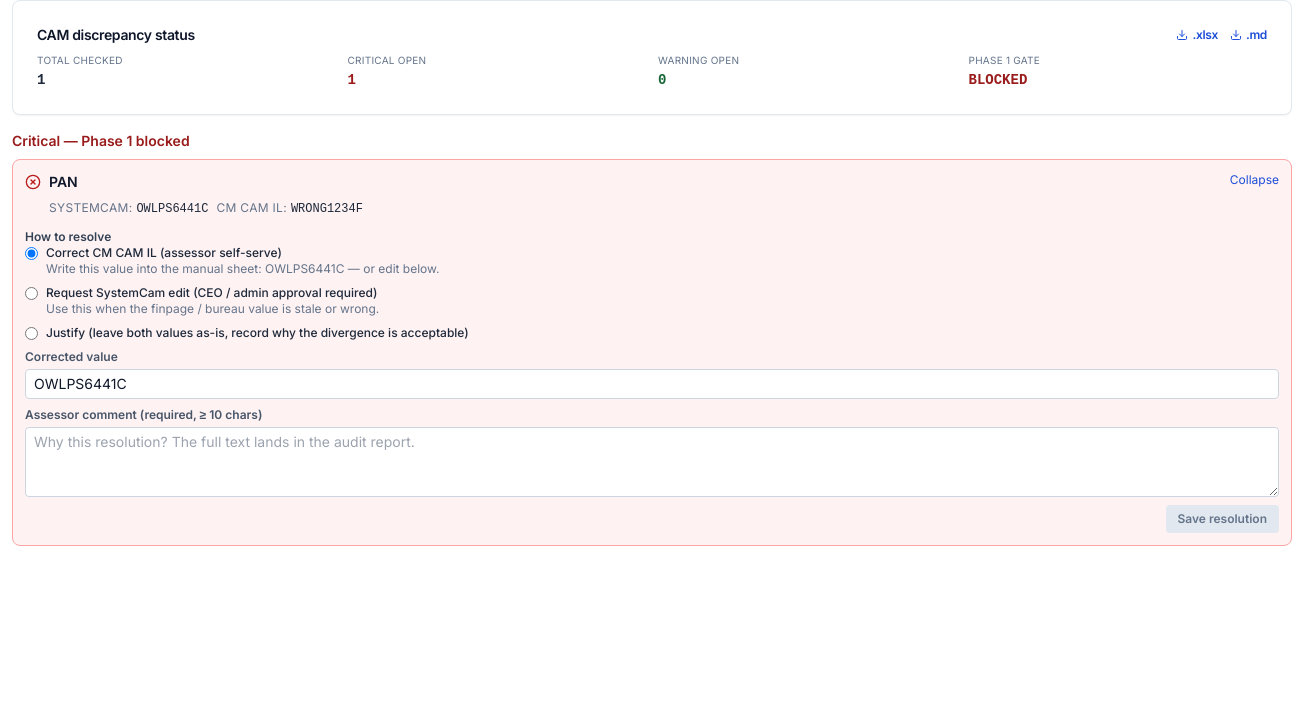
DiscrepanciesPanel › disables Save until corrected_value + comment are filled
Expected: the button with test id "resolve-submit-pan" is disabled, [1166,505,1279,533]
// Add only a short comment — still disabled
Replace the text in the text box with test id "comment-pan" with "short": x=652, y=462 [25,427,1279,497]
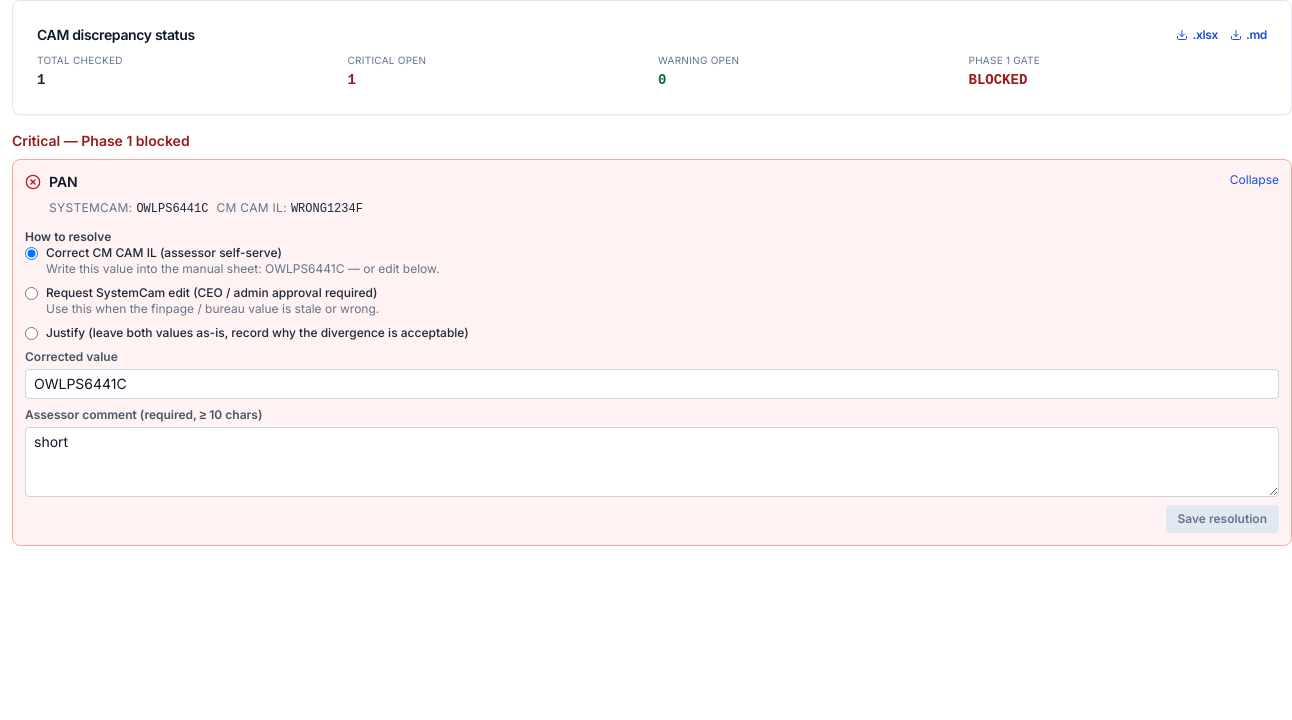
Expected: the button with test id "resolve-submit-pan" is disabled, [1166,505,1279,533]
// Full comment — now enabled (corrected_value already has systemcam default)
Replace the text in the text box with test id "comment-pan" with "Manual entry typo — correcting to finpage value.": x=652, y=462 [25,427,1279,497]
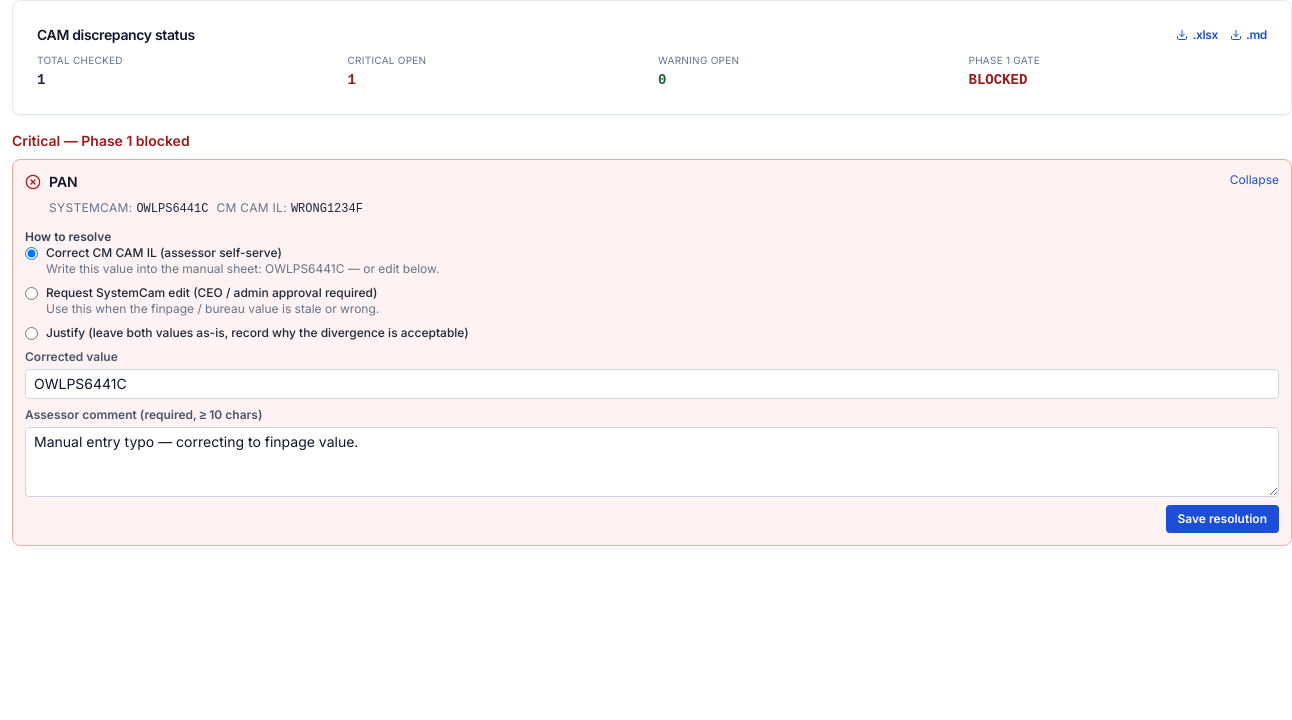
Expected: the button with test id "resolve-submit-pan" is enabled, [1166,505,1279,533]
